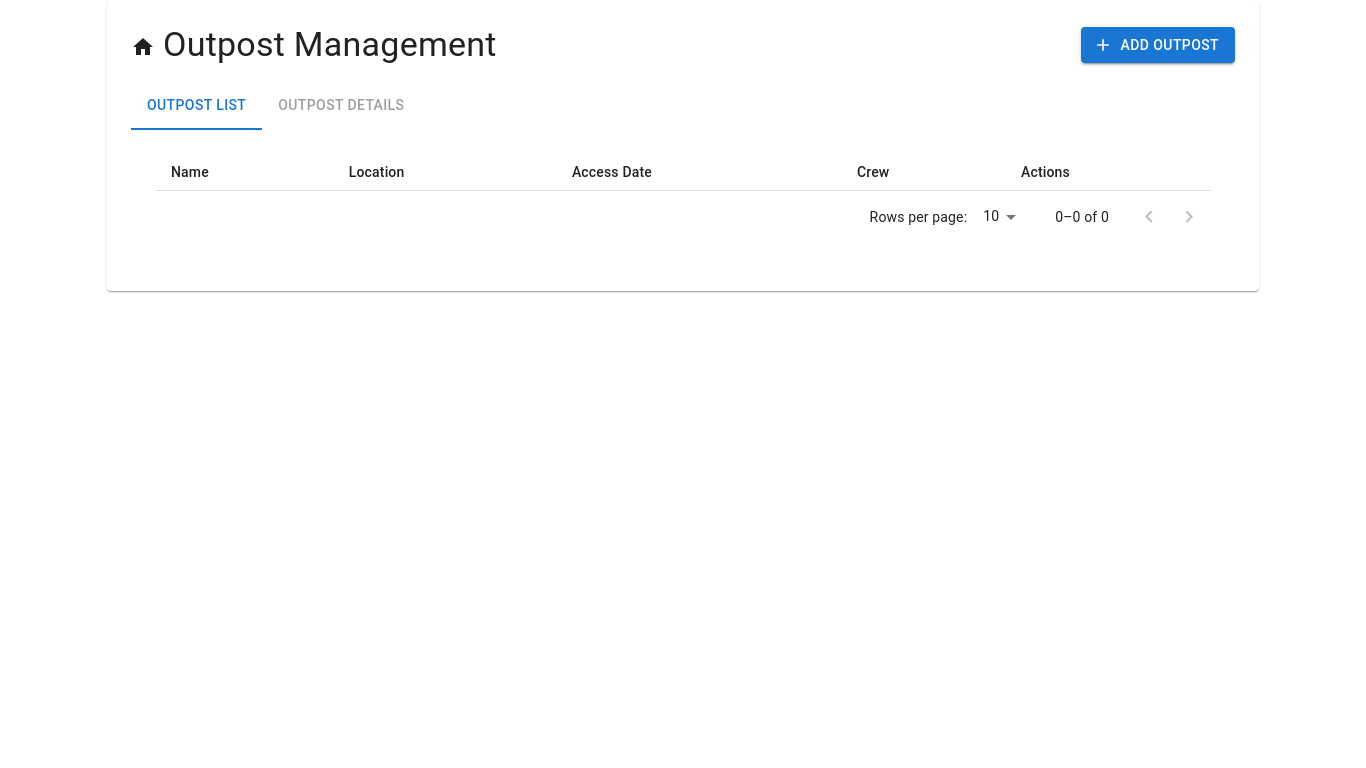
Test: OutpostManagement › refuses to save a blank name
The image size is (1366, 768).
Click the button "Add Outpost" at x=1158, y=45, box [1081, 27, 1235, 63]
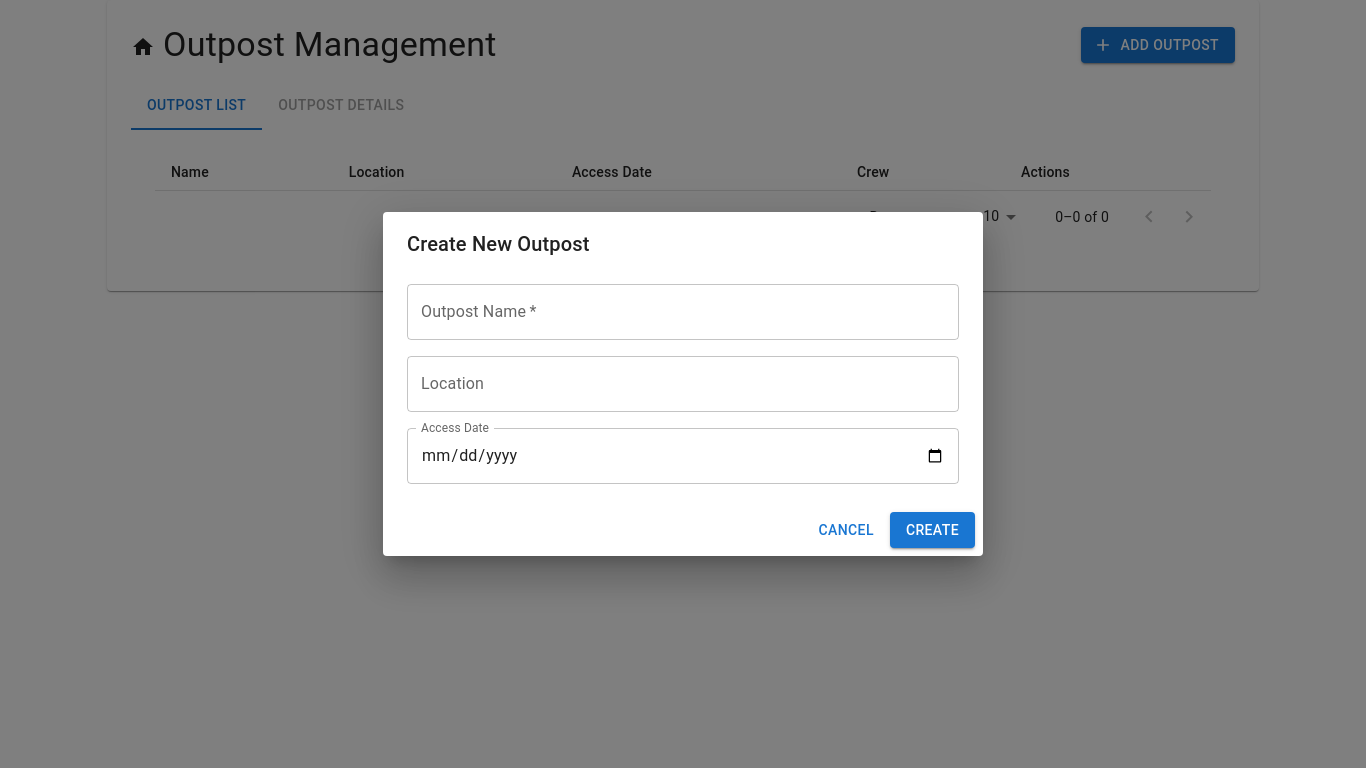
Click the button "Create" at x=932, y=530, box [890, 512, 975, 548]
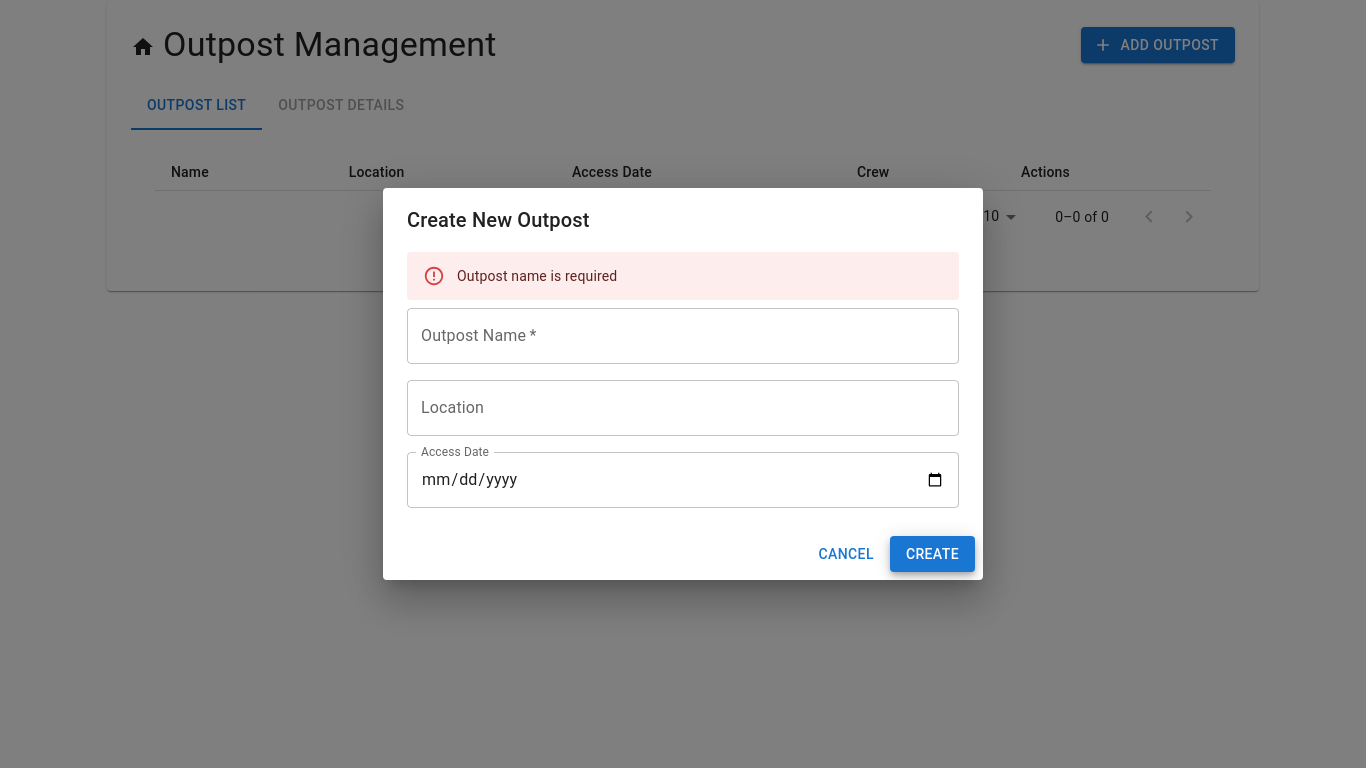
Check: the text "Outpost name is required" is shown, box [457, 268, 617, 284]
